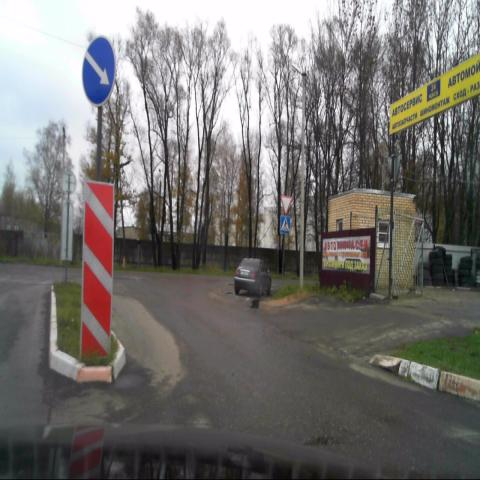2_4: (280, 194, 292, 214)
4_2_1: (81, 35, 117, 107)
5_19_1: (280, 214, 290, 234)
